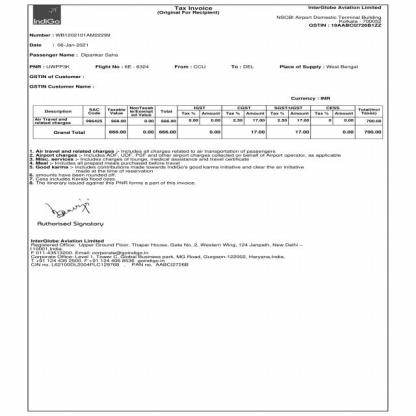Paragraph: (28, 148, 344, 187), (29, 238, 304, 268), (275, 5, 383, 28), (157, 5, 221, 16), (279, 64, 359, 70), (29, 53, 119, 57), (29, 84, 95, 89), (29, 33, 111, 37), (29, 74, 85, 79), (290, 96, 331, 102), (29, 43, 88, 47), (95, 65, 149, 69), (29, 64, 70, 68), (174, 64, 206, 68), (230, 64, 254, 69)
Table: (33, 106, 382, 139)
